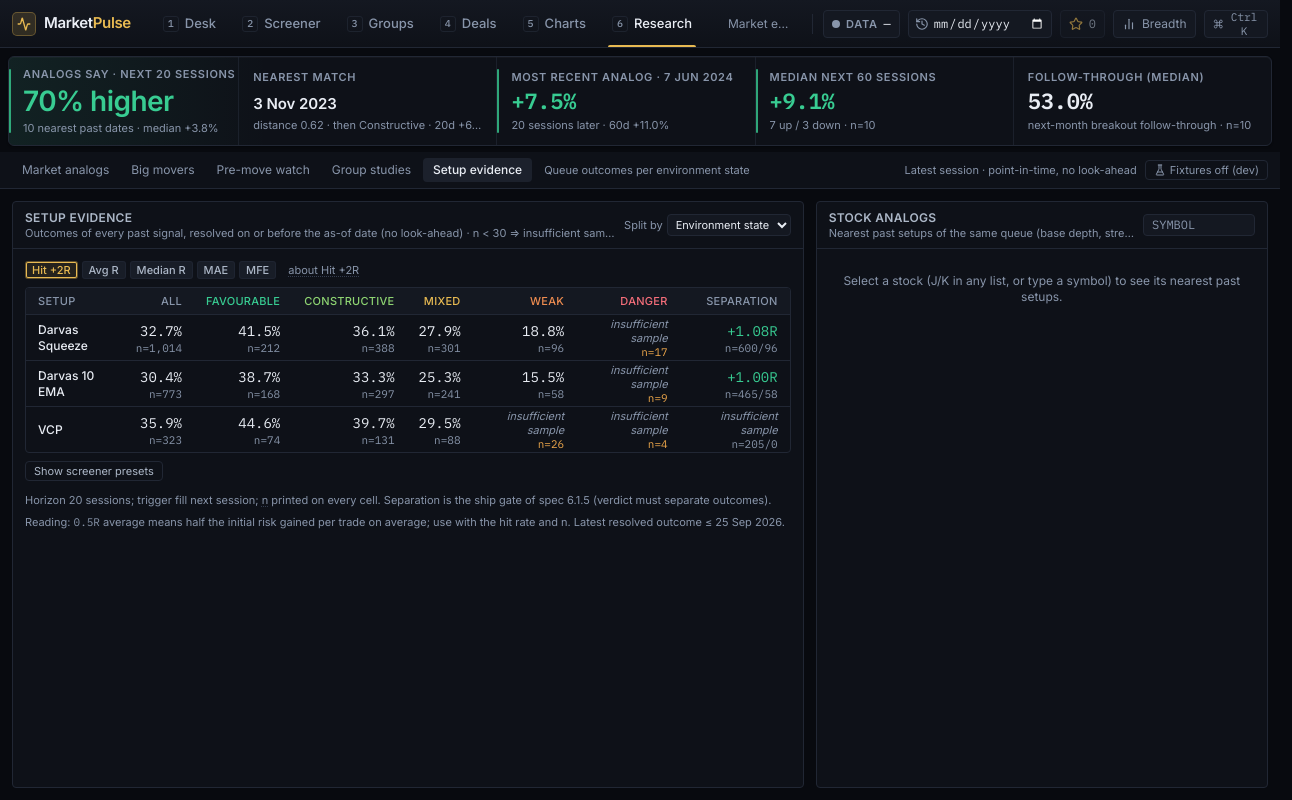
Research tab › setup evidence: queue × environment with n on every cell and insufficient sample below 30
Expected: the element showing "insufficient sample n=4" is shown, [610,409,668,451]
Expected: the element showing "44.6% n=74" is shown, [238,412,280,446]
Step 1. Click the button "Avg R" → (104,270), box [82,261,126,279]
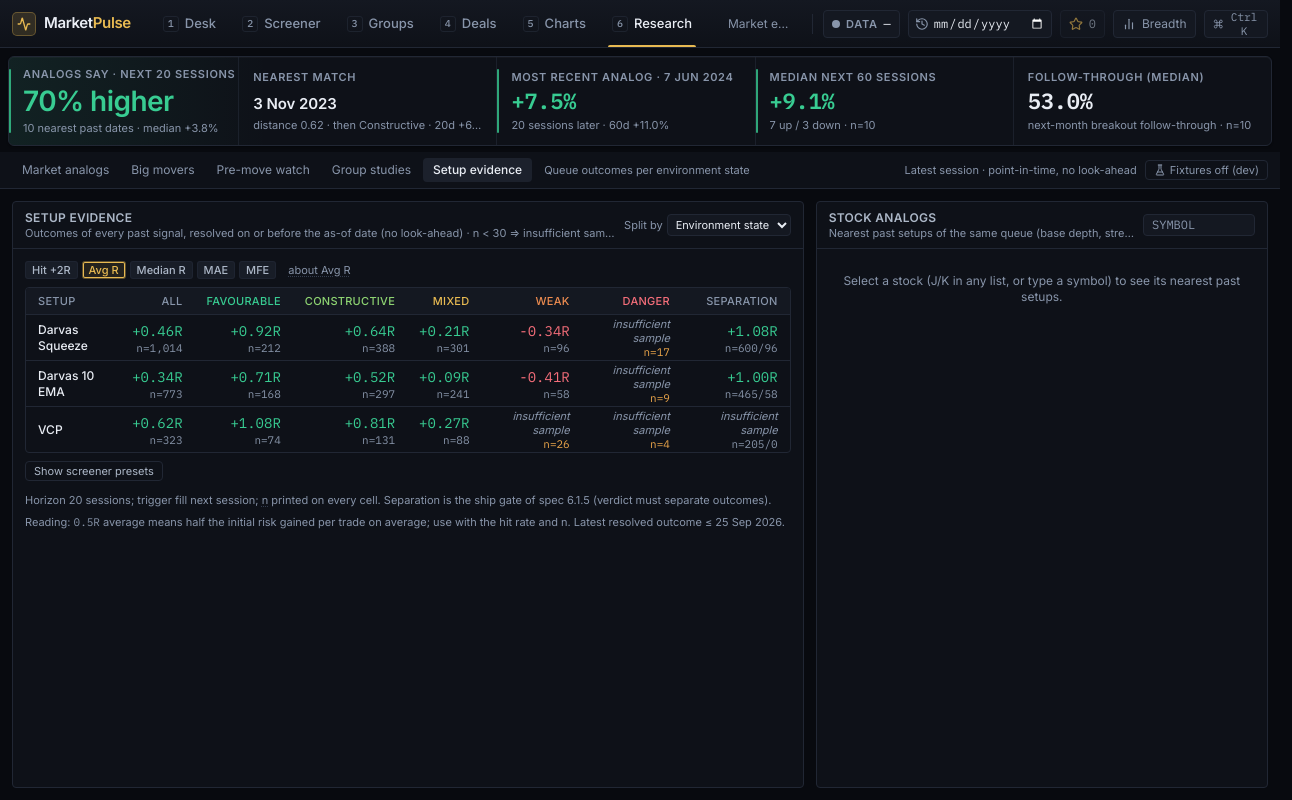
Result: the element showing "+1.08R n=74" is shown at [230,412,281,446]
